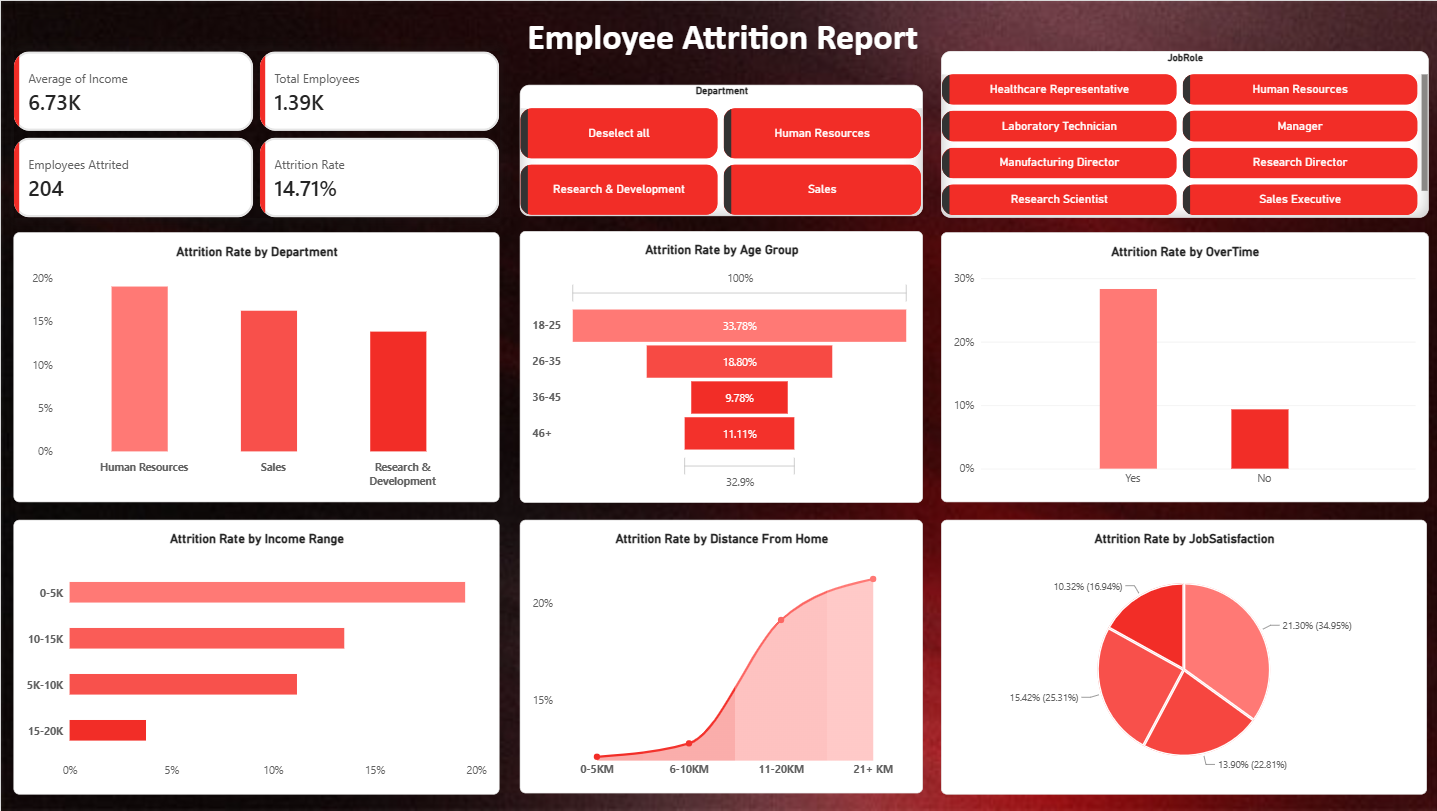

This screenshot's page, from the dashboard's own definition file:
{"tool":"powerbi","page":{"name":"HR ","canvas":[1920,1080],"ordinal":0},"visuals":[{"type":"cardVisual","fields":{"Data":["Avg(WA_Fn-UseC_-HR-Employee-Attrition.MonthlyIncome)","WA_Fn-UseC_-HR-Employee-Attrition.Total Employees","WA_Fn-UseC_-HR-Employee-Attrition.Employees Attrited","WA_Fn-UseC_-HR-Employee-Attrition.Attrition Rate"]},"box":[16,66,648,222],"z":0},{"type":"columnChart","fields":{"Y":["WA_Fn-UseC_-HR-Employee-Attrition.Attrition Rate"],"Category":["WA_Fn-UseC_-HR-Employee-Attrition.Department"]},"box":[16,308,648,360],"z":1000},{"type":"barChart","fields":{"Y":["WA_Fn-UseC_-HR-Employee-Attrition.Attrition Rate"],"Category":["WA_Fn-UseC_-HR-Employee-Attrition.Income Range"]},"box":[16,692,648,366],"z":2000},{"type":"funnel","fields":{"Y":["WA_Fn-UseC_-HR-Employee-Attrition.Attrition Rate"],"Category":["WA_Fn-UseC_-HR-Employee-Attrition.Age Group"]},"box":[692,306,537.5,362.5],"z":3000},{"type":"pieChart","fields":{"Category":["WA_Fn-UseC_-HR-Employee-Attrition.JobSatisfaction"],"Y":["WA_Fn-UseC_-HR-Employee-Attrition.Attrition Rate"]},"box":[1254,692,648,366],"z":4000},{"type":"areaChart","fields":{"Y":["WA_Fn-UseC_-HR-Employee-Attrition.Attrition Rate"],"Category":["WA_Fn-UseC_-HR-Employee-Attrition.Distance From Home"]},"box":[692,692,537.5,365],"z":5000},{"type":"advancedSlicerVisual","fields":{"Values":["WA_Fn-UseC_-HR-Employee-Attrition.Department"]},"box":[692,112,537.5,175],"z":6000},{"type":"advancedSlicerVisual","fields":{"Values":["WA_Fn-UseC_-HR-Employee-Attrition.JobRole"]},"box":[1254,66,650,222],"z":7000},{"type":"columnChart","fields":{"Category":["WA_Fn-UseC_-HR-Employee-Attrition.OverTime"],"Y":["WA_Fn-UseC_-HR-Employee-Attrition.Attrition Rate"]},"box":[1254,308,650,360],"z":8000},{"type":"textbox","box":[692.5,17.5,537.5,92.5],"z":9000}]}

Visuals, with their boxes in screenshot pixels (x1, y1, x2, y2), scaled from the page's 1920x1080 canvas onto the 1437x811 screenshot:
cardVisual - Avg(WA_Fn-UseC_-HR-Employee-Attrition.MonthlyIncome) x WA_Fn-UseC_-HR-Employee-Attrition.Total Employees: <box>12,50,497,216</box>
columnChart - WA_Fn-UseC_-HR-Employee-Attrition.Attrition Rate x WA_Fn-UseC_-HR-Employee-Attrition.Department: <box>12,231,497,502</box>
barChart - WA_Fn-UseC_-HR-Employee-Attrition.Attrition Rate x WA_Fn-UseC_-HR-Employee-Attrition.Income Range: <box>12,520,497,794</box>
funnel - WA_Fn-UseC_-HR-Employee-Attrition.Attrition Rate x WA_Fn-UseC_-HR-Employee-Attrition.Age Group: <box>518,230,920,502</box>
pieChart - WA_Fn-UseC_-HR-Employee-Attrition.JobSatisfaction x WA_Fn-UseC_-HR-Employee-Attrition.Attrition Rate: <box>939,520,1424,794</box>
areaChart - WA_Fn-UseC_-HR-Employee-Attrition.Attrition Rate x WA_Fn-UseC_-HR-Employee-Attrition.Distance From Home: <box>518,520,920,794</box>
advancedSlicerVisual - WA_Fn-UseC_-HR-Employee-Attrition.Department: <box>518,84,920,216</box>
advancedSlicerVisual - WA_Fn-UseC_-HR-Employee-Attrition.JobRole: <box>939,50,1425,216</box>
columnChart - WA_Fn-UseC_-HR-Employee-Attrition.OverTime x WA_Fn-UseC_-HR-Employee-Attrition.Attrition Rate: <box>939,231,1425,502</box>
textbox: <box>518,13,921,83</box>
